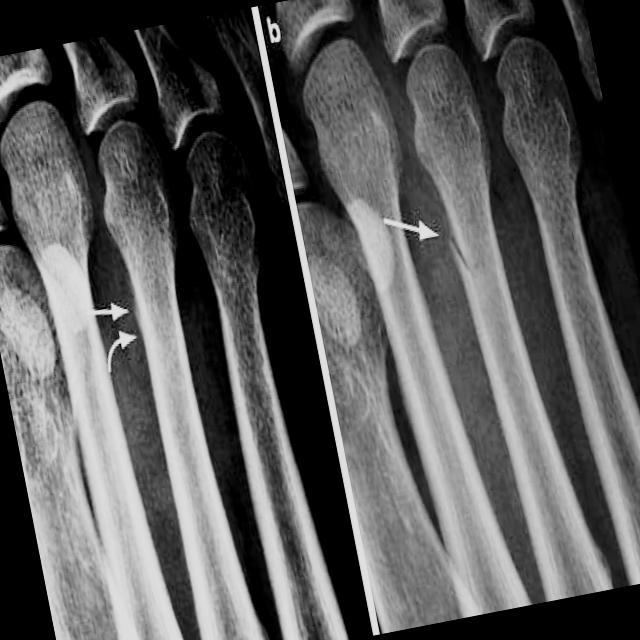HairLine Fracture: (439, 210, 477, 278), (119, 274, 151, 336)
